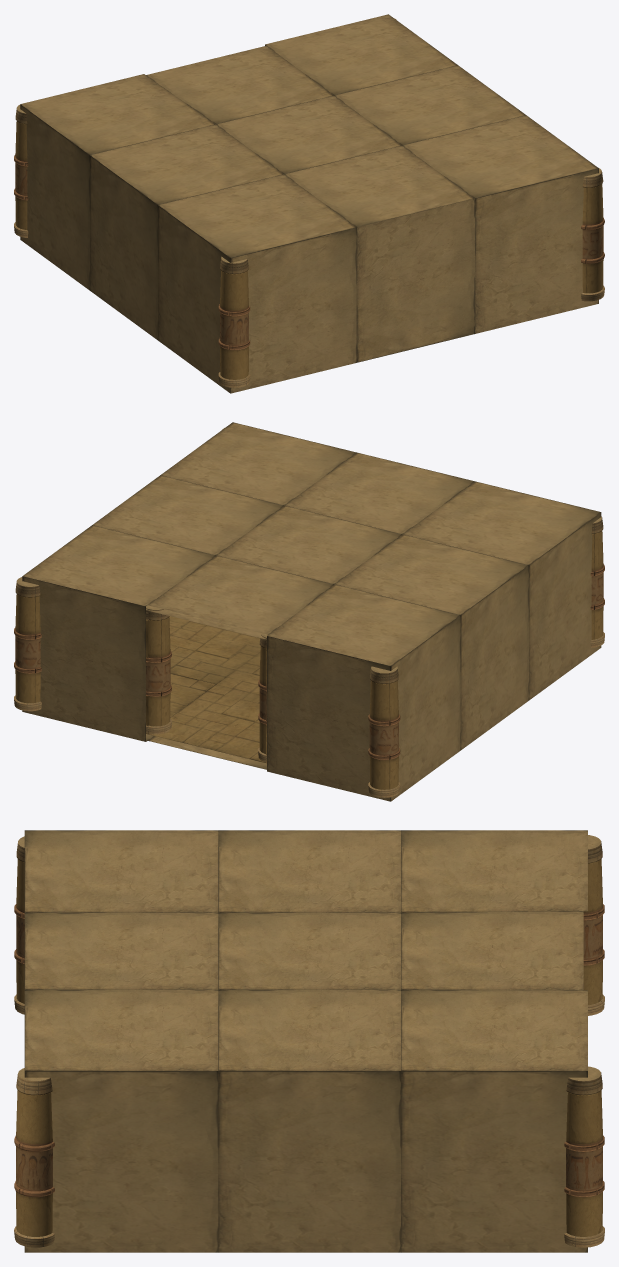
File: m_Room01.FBX
The picture shows the model from 3 angles, top to bottom: view 1: azimuth 30°, elevation 25°; view 2: azimuth 150°, elevation 25°; view 3: azimuth 270°, elevation 25°; orthographic projection. The views are drawn at different scales.
Visible parts, largest first — view 1: m_Room01; view 2: m_Room01; view 3: m_Room01.
Part boxes in pixels (x1=…): m_Room01: x1=14, y1=14, x2=604, y2=393; m_Room01: x1=14, y1=422, x2=604, y2=801; m_Room01: x1=14, y1=830, x2=604, y2=1252.
Size of the model in its own units: 324 by 324 by 110.
1 material, 1 textured.
